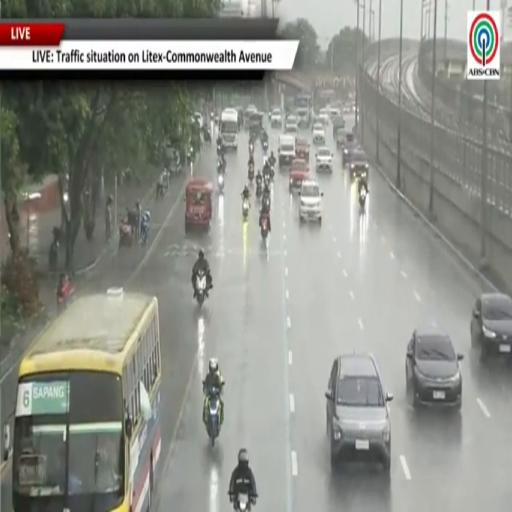bus: (12, 288, 161, 511), (219, 108, 238, 150), (295, 94, 312, 127)
car: (325, 355, 393, 473), (406, 326, 463, 408), (471, 293, 511, 359), (299, 180, 323, 222), (289, 158, 309, 193), (349, 149, 369, 182), (278, 135, 295, 168), (342, 133, 357, 167), (316, 147, 333, 172), (296, 138, 309, 162), (332, 116, 345, 137), (313, 123, 325, 145), (335, 127, 345, 150), (270, 108, 282, 127), (285, 116, 297, 134), (319, 108, 329, 125), (330, 107, 341, 119), (194, 112, 203, 126), (343, 104, 353, 115)
motorcycle: (207, 388, 221, 446), (57, 281, 74, 311), (196, 269, 207, 307), (119, 221, 133, 247), (140, 211, 150, 245), (234, 494, 251, 511), (358, 187, 368, 210), (261, 216, 269, 239), (242, 198, 250, 221), (203, 126, 211, 142), (217, 159, 226, 173), (262, 196, 270, 211), (218, 174, 224, 193), (256, 181, 262, 199), (248, 166, 254, 182), (264, 173, 270, 187), (262, 140, 268, 153), (217, 143, 223, 155), (249, 142, 254, 156)
